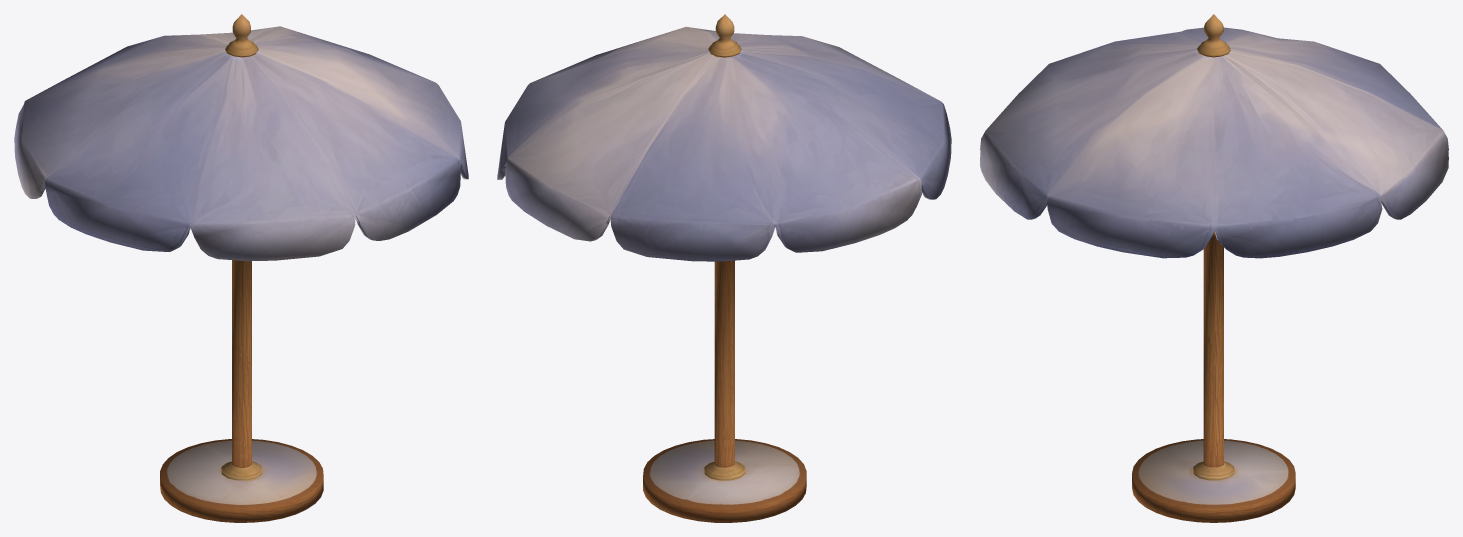
File: Furn_Parasol.fbx
3 views of the same model, side by side, from view 1: azimuth 30°, elevation 25°; view 2: azimuth 150°, elevation 25°; view 3: azimuth 270°, elevation 25° (orthographic).
Parts seen in each view (by area): view 1: Furn_Parasol; view 2: Furn_Parasol; view 3: Furn_Parasol.
Part boxes in pixels (x1,y1,x2,y2): Furn_Parasol: (14,14,468,522); Furn_Parasol: (497,14,951,522); Furn_Parasol: (980,14,1448,522).
Size of the model in its own units: 2.29 by 2.6 by 2.33.
Materials: 1 (1 with a texture image).
